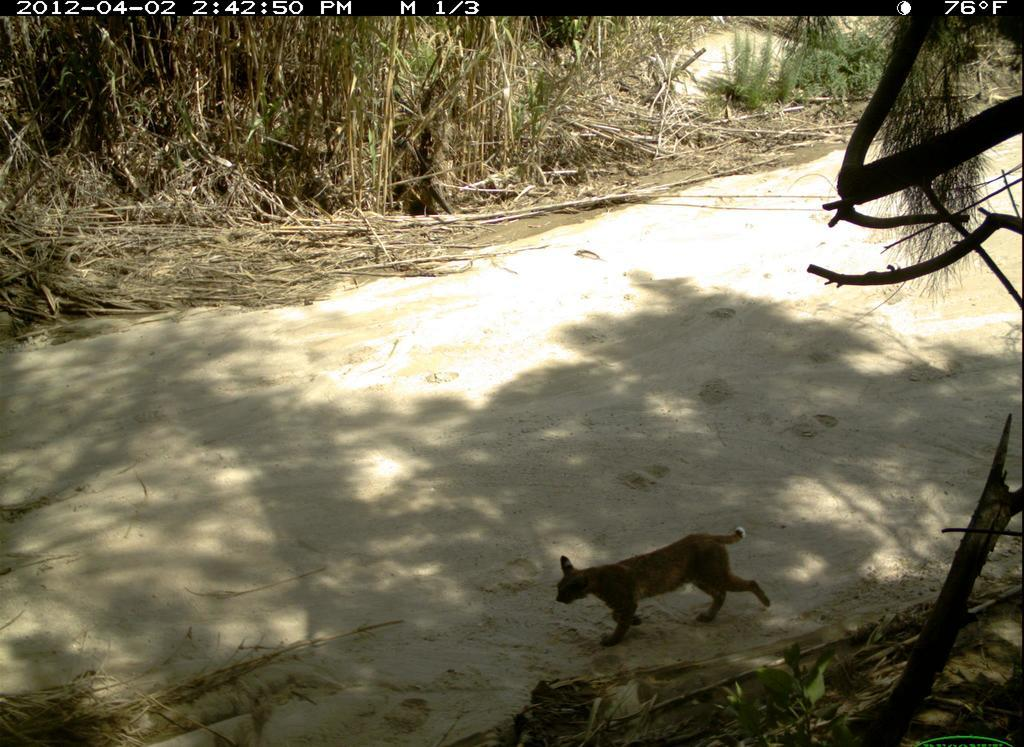bobcat: (533, 520, 803, 675)
